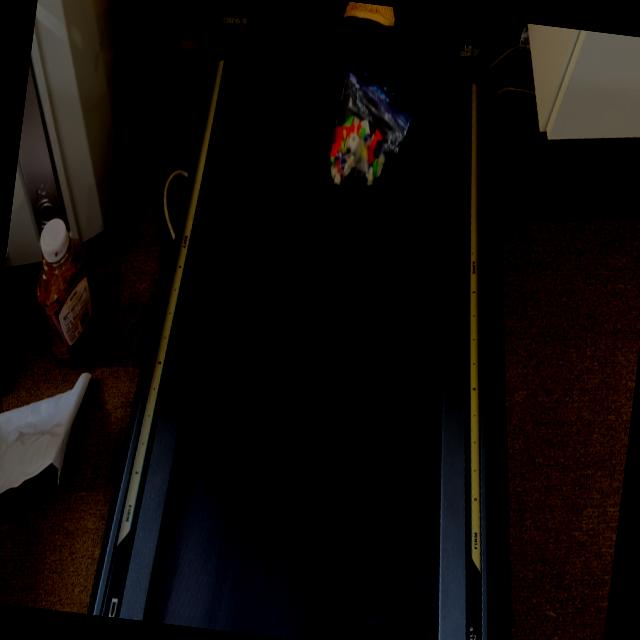Trash: (323, 60, 418, 210), (342, 0, 396, 28)
